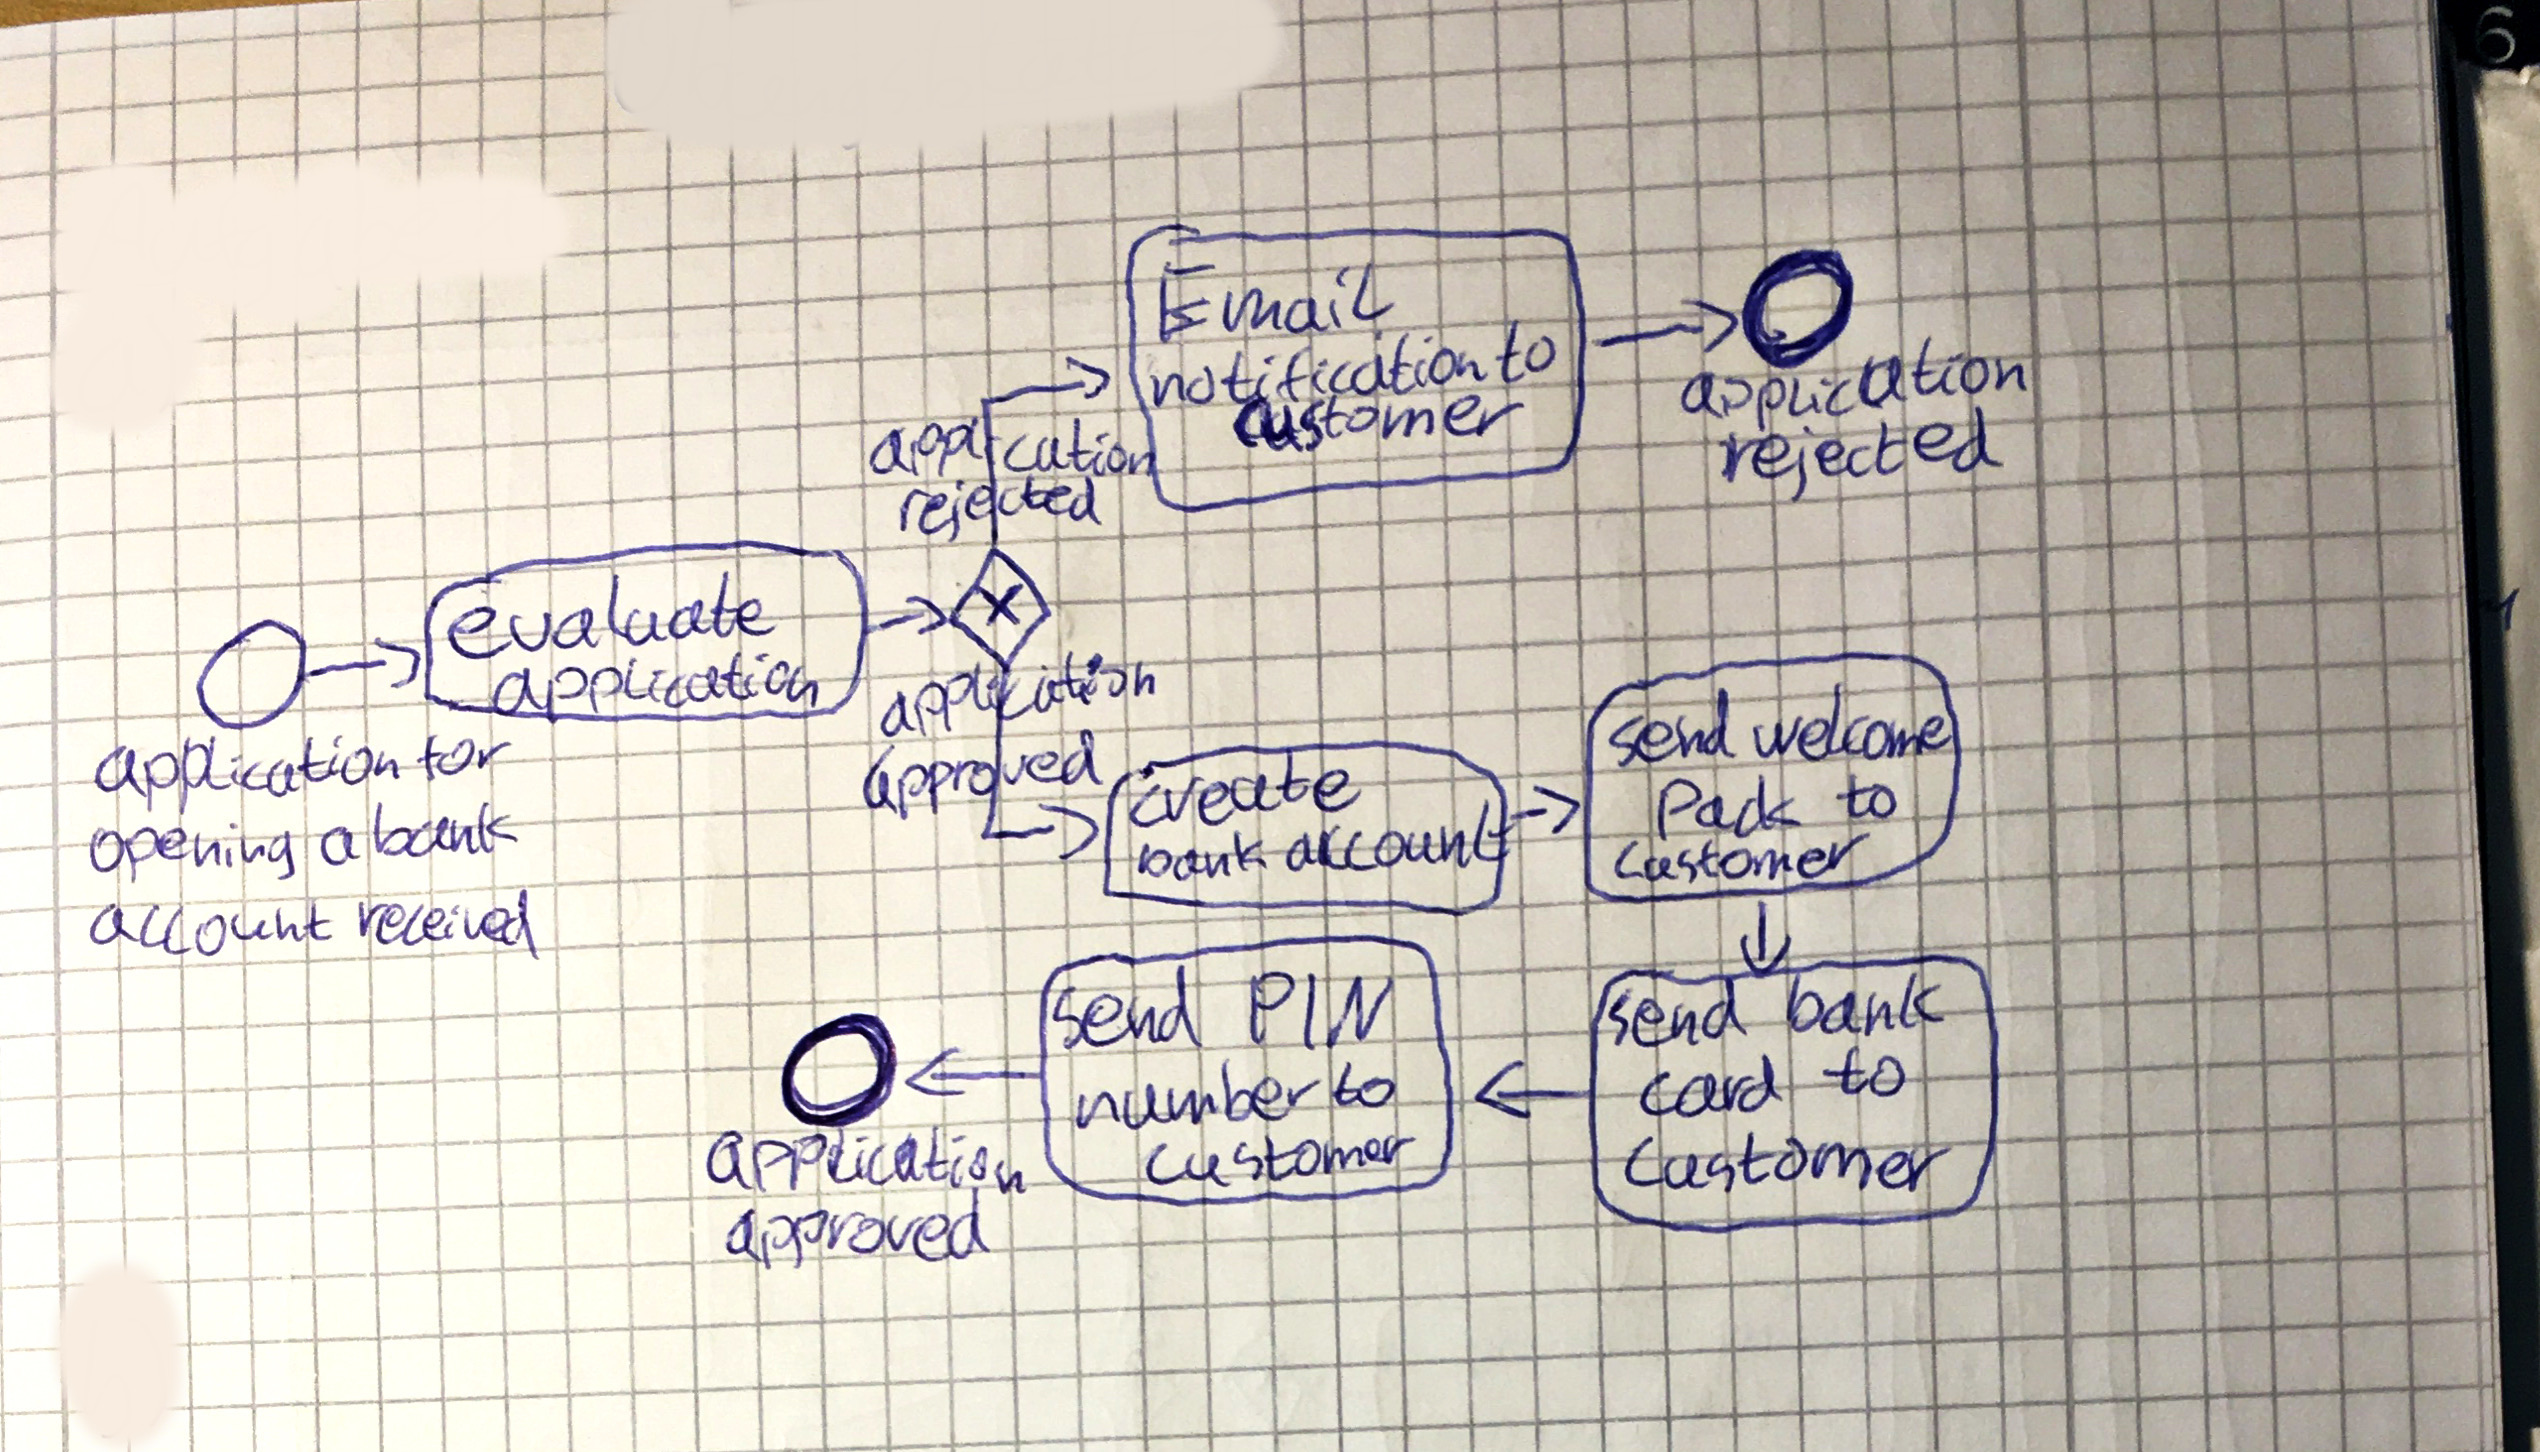Email: (1143, 251, 1397, 342)
PIN: (1247, 967, 1394, 1051)
a: (312, 803, 366, 874)
account: (70, 892, 340, 963), (1282, 810, 1500, 880)
application: (1669, 354, 2032, 442), (84, 719, 419, 810), (487, 653, 832, 731), (876, 651, 1162, 743), (701, 1126, 1043, 1197), (860, 419, 1165, 485)
approved: (860, 729, 1111, 820), (724, 1195, 1000, 1274)
bank: (372, 785, 520, 873), (1790, 963, 1949, 1042), (1130, 827, 1284, 892)
card: (1621, 1045, 1804, 1133)
create: (1122, 747, 1364, 838)
customer: (1622, 1126, 1968, 1201), (1228, 396, 1519, 469), (1143, 1129, 1415, 1194), (1608, 839, 1881, 892)
evaluate: (443, 593, 775, 667)
for: (405, 709, 520, 791)
notification: (1146, 339, 1493, 407)
number: (1071, 1056, 1328, 1138)
opening: (85, 805, 304, 887)
pack: (1643, 768, 1823, 841)
received: (342, 888, 541, 963)
rejected: (1711, 435, 2004, 517), (890, 475, 1108, 546)
send: (1048, 970, 1235, 1063), (1598, 979, 1778, 1052), (1586, 689, 1745, 770)
to: (1328, 1051, 1432, 1127), (1821, 1040, 1914, 1115), (1486, 319, 1560, 393), (1833, 764, 1902, 827)
welcome: (1745, 675, 1957, 766)
